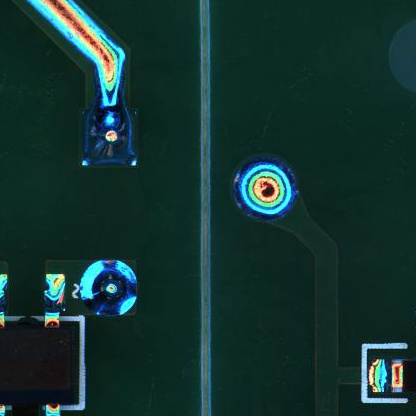spot: (232, 156, 300, 223), (80, 108, 141, 168), (80, 260, 139, 320)
